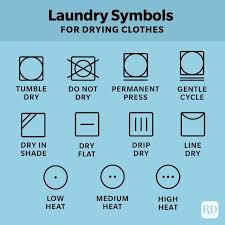ER_dry_in_shade: (20, 111, 47, 138)
ER_flat_dry: (74, 111, 101, 138)
ER_no_tumble_dry: (65, 54, 100, 82)
ER_tumble_dry: (17, 55, 46, 82)
